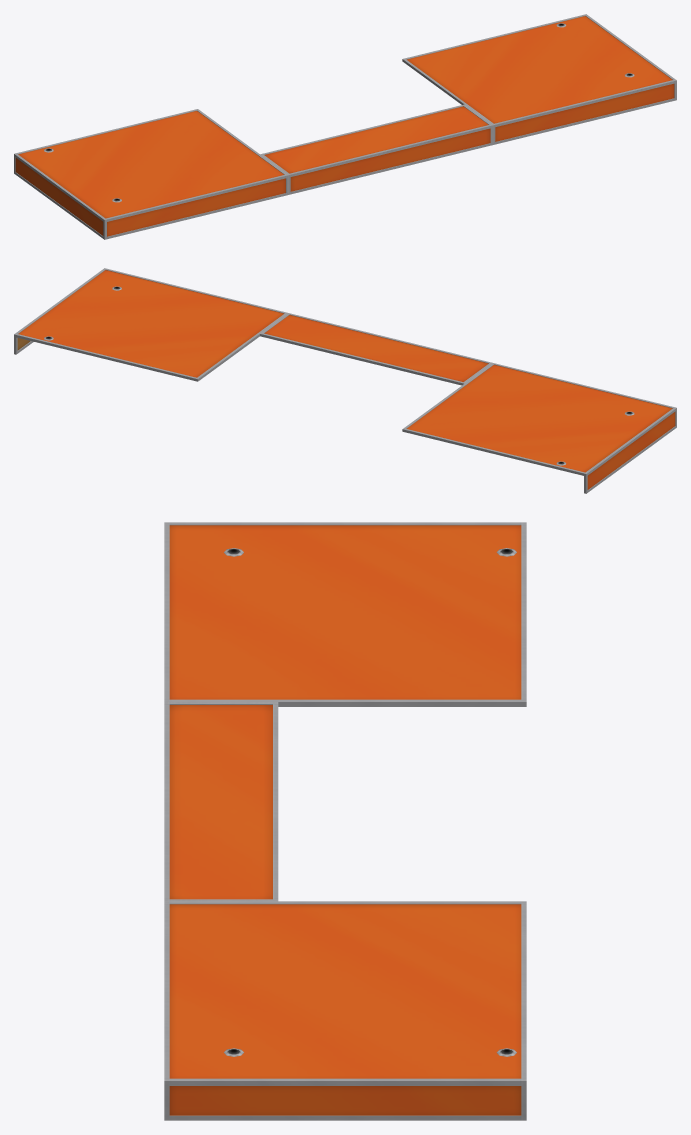
Rendered from jsf_4P_s04_c01_t02_DX.fbx.
3 renders of one model, top to bottom at view 1: azimuth 30°, elevation 25°; view 2: azimuth 150°, elevation 25°; view 3: azimuth 270°, elevation 25°, orthographic. The views are drawn at different scales.
Parts seen in each view (by area): view 1: jsf_4P_s04_c01_t02_DX; view 2: jsf_4P_s04_c01_t02_DX; view 3: jsf_4P_s04_c01_t02_DX.
Part boxes in pixels (x1=…): jsf_4P_s04_c01_t02_DX: x1=14, y1=14, x2=676, y2=239; jsf_4P_s04_c01_t02_DX: x1=14, y1=268, x2=676, y2=493; jsf_4P_s04_c01_t02_DX: x1=164, y1=522, x2=526, y2=1120.
Bounding box in the file's own units: 378 × 12.99 × 104.
